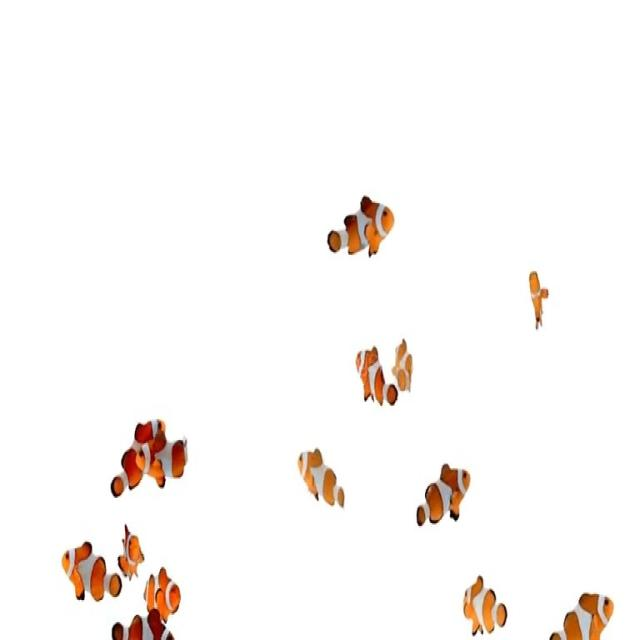fish: (320, 182, 401, 268), (292, 428, 361, 521), (112, 409, 168, 508), (411, 455, 477, 535), (57, 532, 123, 611), (453, 554, 509, 635), (137, 433, 202, 492), (141, 562, 195, 625), (551, 587, 615, 640), (354, 346, 402, 412), (112, 520, 148, 586), (526, 253, 552, 343), (391, 338, 424, 395)
